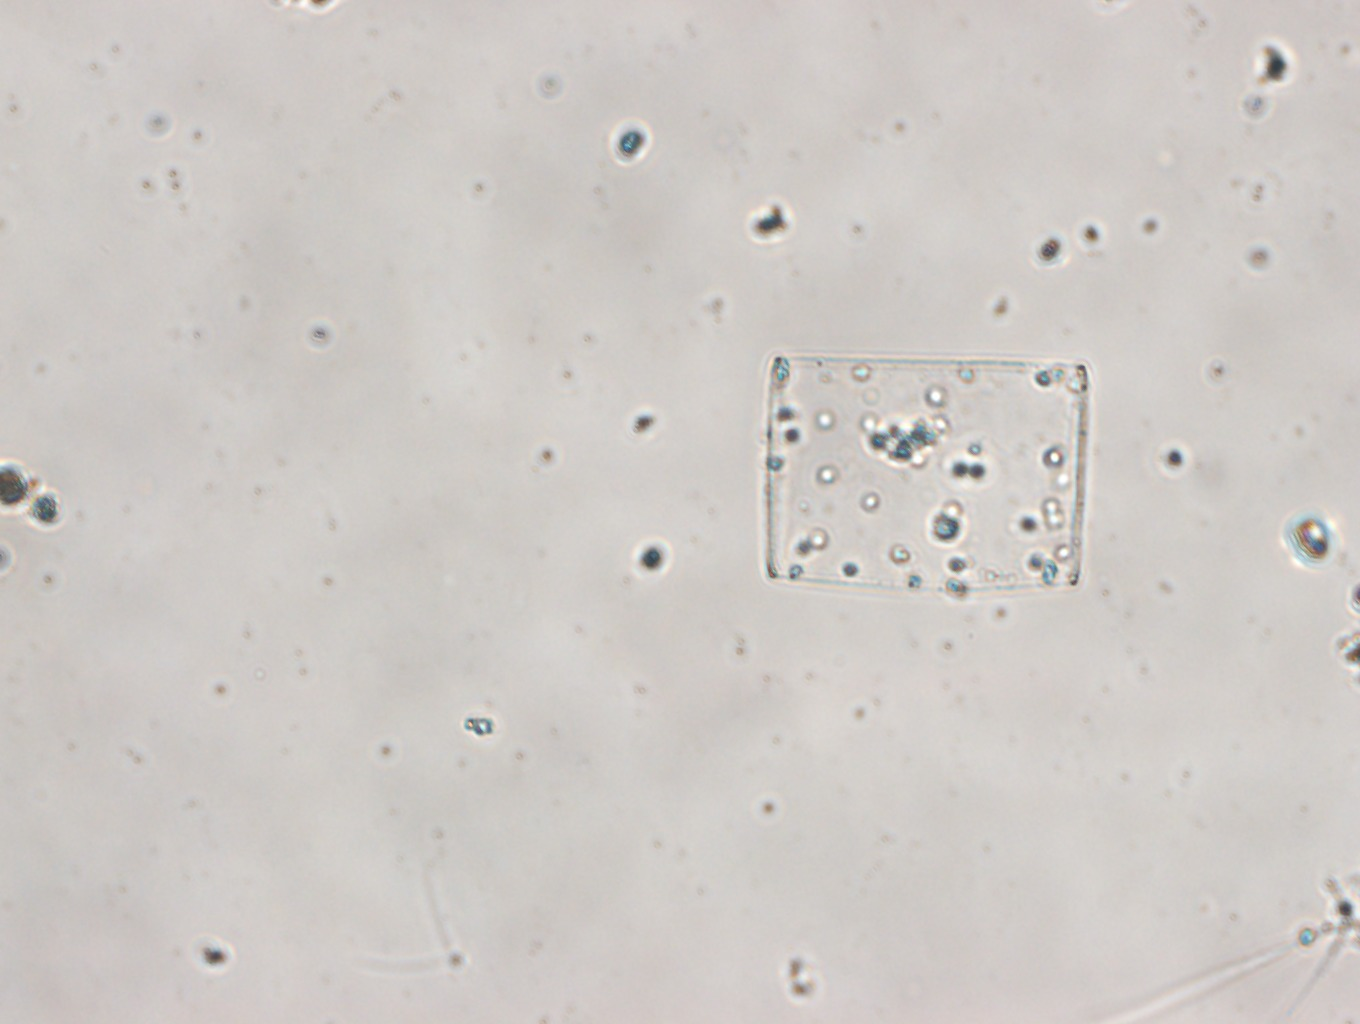guinardia flaccida: (763, 353, 1090, 587)
